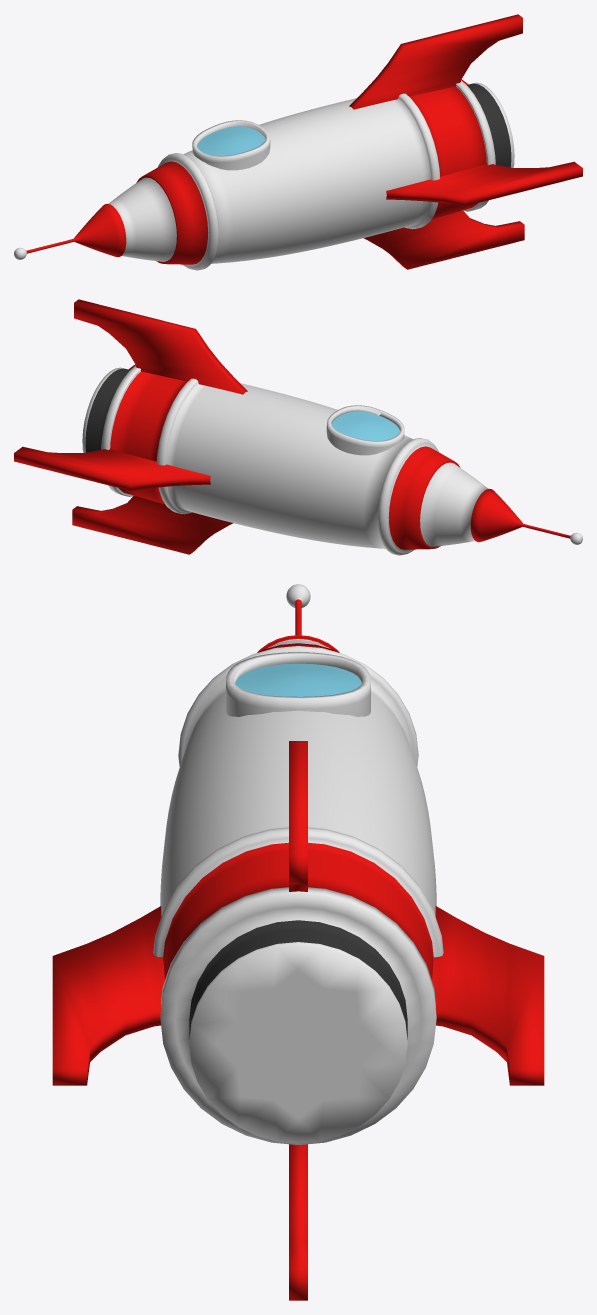
Rendered from RicketShip.glb.
3 renders of one model, top to bottom at view 1: azimuth 30°, elevation 25°; view 2: azimuth 150°, elevation 25°; view 3: azimuth 270°, elevation 25°, orthographic. The views are drawn at different scales.
Parts seen in each view (by area): view 1: Cube.001; view 2: Cube.001; view 3: Cube.001.
Part boxes in pixels (x1,y1,x2,y2): Cube.001: (14, 14, 582, 270); Cube.001: (14, 299, 582, 555); Cube.001: (52, 584, 544, 1300).
Size of the model in its own units: 1.81 by 0.7609 by 0.7575.
